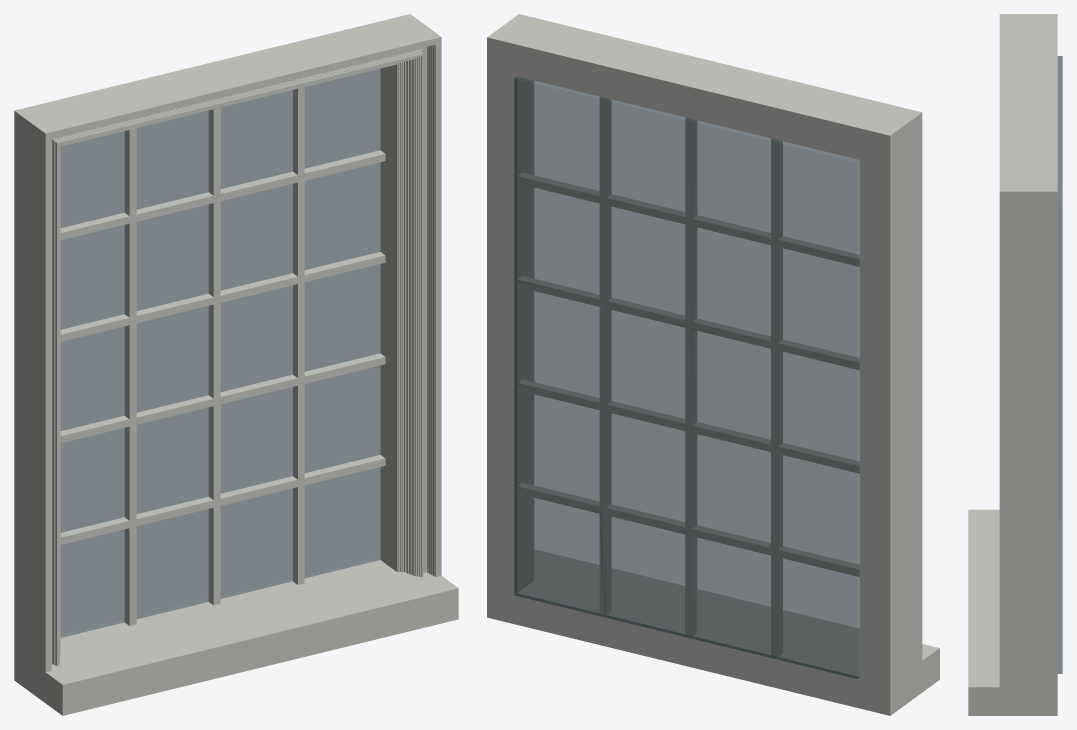
File: republicano_rectangle.glb
3 views of the same model, side by side, from view 1: azimuth 30°, elevation 25°; view 2: azimuth 150°, elevation 25°; view 3: azimuth 270°, elevation 25° (orthographic). The views are drawn at different scales.
Visible parts, largest first — view 1: window_glass#0001, window_mullion#0001, window_sill#0001, window_reveal#0001, window_profile#0028, window_profile#0001, window_profile#0025, window_profile#0027, window_profile#0009, window_profile#0026, window_profile#0013, window_profile#0012 (+20 smaller); view 2: window_glass#0001, window_reveal#0001, window_mullion#0001, window_profile#0028, window_sill#0001, window_profile#0001; view 3: window_profile#0028, window_reveal#0001, window_sill#0001, window_glass#0001.
Boxes of the visible parts, left/top/right/bottom form: window_glass#0001: left=60, top=69, right=380, bottom=637; window_mullion#0001: left=60, top=87, right=385, bottom=625; window_sill#0001: left=22, top=567, right=458, bottom=715; window_reveal#0001: left=14, top=14, right=422, bottom=686; window_profile#0028: left=25, top=22, right=441, bottom=702; window_profile#0001: left=60, top=63, right=398, bottom=653; window_profile#0025: left=50, top=43, right=437, bottom=671; window_profile#0027: left=47, top=39, right=439, bottom=671; window_profile#0009: left=59, top=58, right=416, bottom=662; window_profile#0026: left=48, top=41, right=438, bottom=671; window_profile#0013: left=56, top=53, right=423, bottom=665; window_profile#0012: left=57, top=54, right=422, bottom=665; window_glass#0001: left=514, top=76, right=859, bottom=678; window_reveal#0001: left=487, top=28, right=903, bottom=715; window_mullion#0001: left=517, top=96, right=859, bottom=656; window_profile#0028: left=499, top=14, right=922, bottom=702; window_sill#0001: left=532, top=550, right=939, bottom=709; window_profile#0001: left=529, top=79, right=661, bottom=614; window_profile#0028: left=999, top=14, right=1036, bottom=715; window_reveal#0001: left=1033, top=14, right=1057, bottom=715; window_sill#0001: left=968, top=509, right=1041, bottom=715; window_glass#0001: left=1057, top=56, right=1062, bottom=673.
Bounding box in the file's own units: 1.6 × 2.2 × 0.36.
